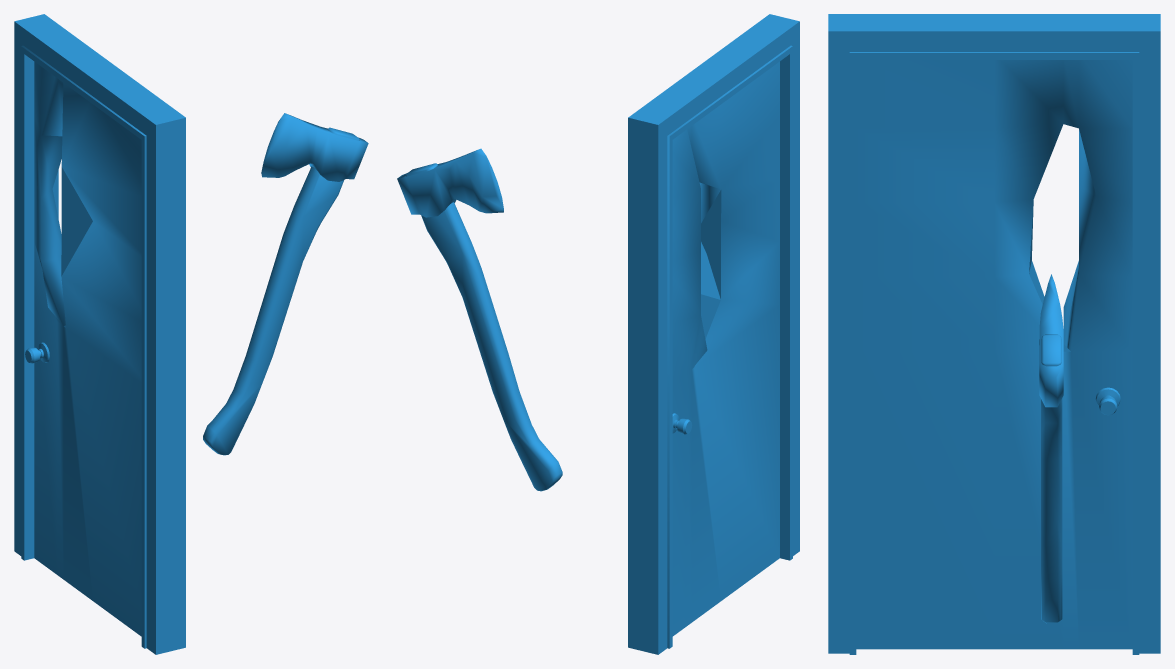
Rendered from axe.glb.
The picture shows the model from 3 angles, left to right: view 1: azimuth 30°, elevation 25°; view 2: azimuth 150°, elevation 25°; view 3: azimuth 270°, elevation 25°; orthographic projection. The views are drawn at different scales.
Visible parts, largest first — view 1: Door_low.002, Axe; view 2: Door_low.002, Axe; view 3: Door_low.002, Axe.
Part boxes in pixels (x1,y1,x2,y2): Door_low.002: (14, 14, 185, 654); Axe: (203, 113, 368, 455); Door_low.002: (628, 14, 799, 654); Axe: (397, 148, 562, 491); Door_low.002: (828, 14, 1160, 654); Axe: (1039, 274, 1063, 623).
Size of the model in its own units: 1.63 by 2.63 by 1.28.
